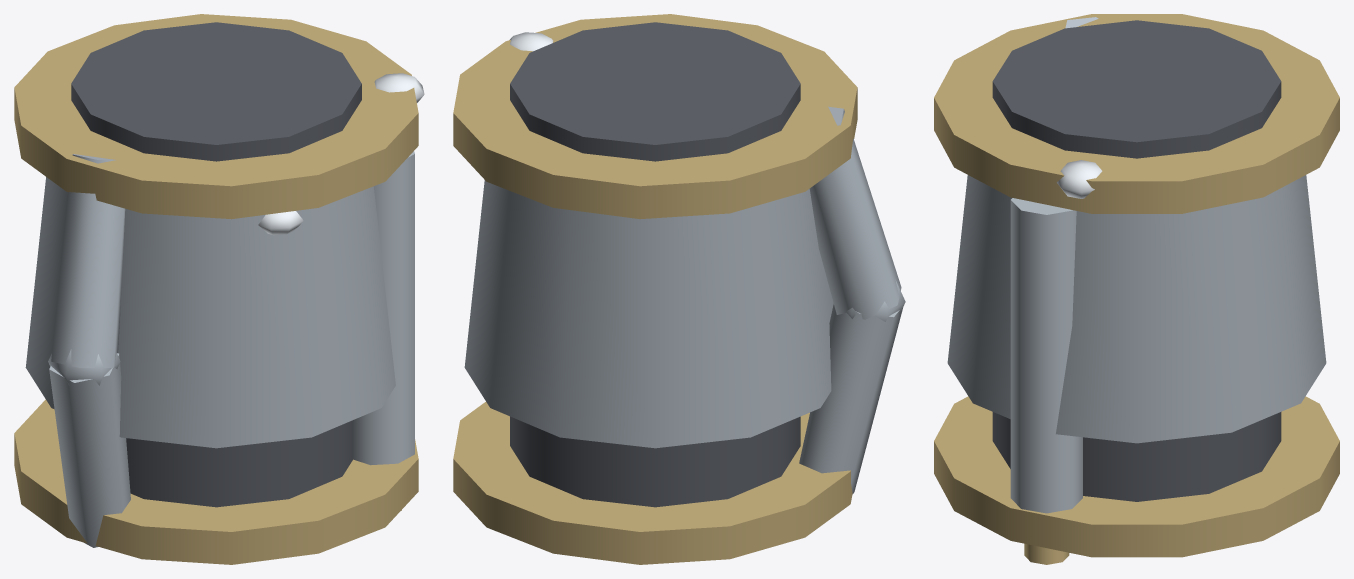
The model's file is restorer_strut.glb.
The picture shows the model from 3 angles, left to right: view 1: azimuth 30°, elevation 25°; view 2: azimuth 150°, elevation 25°; view 3: azimuth 270°, elevation 25°; orthographic projection.
Parts seen in each view (by area): view 1: rs_steel, rs_dark, rs_brass.001, rs_brass, rs_hose, rs_steel*1.2, rs_hose.001, rs_hose.002, rs_frost.004, rs_frost; view 2: rs_steel, rs_dark, rs_brass.001, rs_brass, rs_hose.001, rs_hose, rs_frost.004; view 3: rs_steel, rs_dark, rs_brass.001, rs_brass, rs_steel*1.2, rs_frost.004, rs_brass*1.2.
Boxes of the visible parts, box(x1,y1,x2,y2) form: rs_steel: box(25, 177, 395, 448); rs_dark: box(71, 22, 361, 507); rs_brass.001: box(14, 14, 418, 219); rs_brass: box(14, 399, 418, 564); rs_hose: box(51, 154, 125, 367); rs_steel*1.2: box(353, 151, 414, 465); rs_hose.001: box(49, 353, 130, 547); rs_hose.002: box(48, 349, 120, 385); rs_frost.004: box(374, 73, 424, 102); rs_frost: box(258, 211, 303, 235); rs_steel: box(464, 180, 833, 448); rs_dark: box(510, 22, 800, 507); rs_brass.001: box(453, 14, 857, 219); rs_brass: box(453, 402, 852, 564); rs_hose.001: box(799, 304, 902, 494); rs_hose: box(809, 106, 901, 319); rs_frost.004: box(510, 32, 553, 51); rs_steel: box(947, 175, 1326, 443); rs_dark: box(992, 20, 1281, 501); rs_brass.001: box(934, 14, 1339, 213); rs_brass: box(934, 396, 1339, 557); rs_steel*1.2: box(1010, 198, 1082, 513); rs_frost.004: box(1057, 160, 1102, 198); rs_brass*1.2: box(1024, 543, 1069, 564).
Size of the model in its own units: 0.9707 by 1.02 by 0.9.
